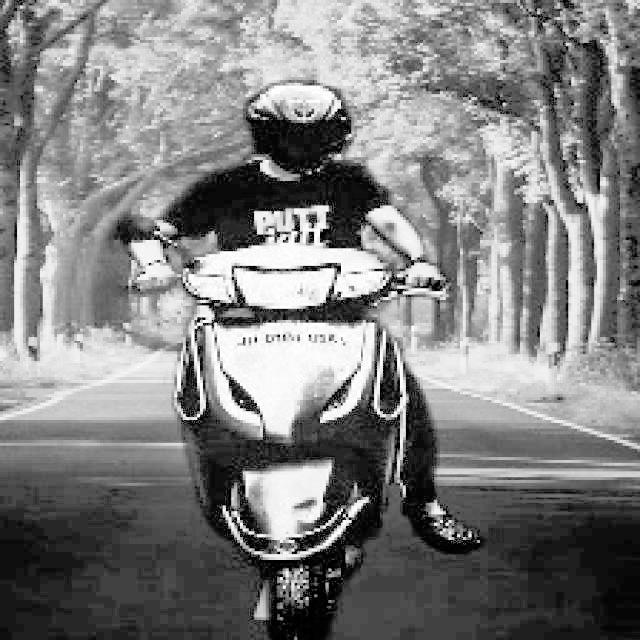Bike: (162, 246, 411, 613)
